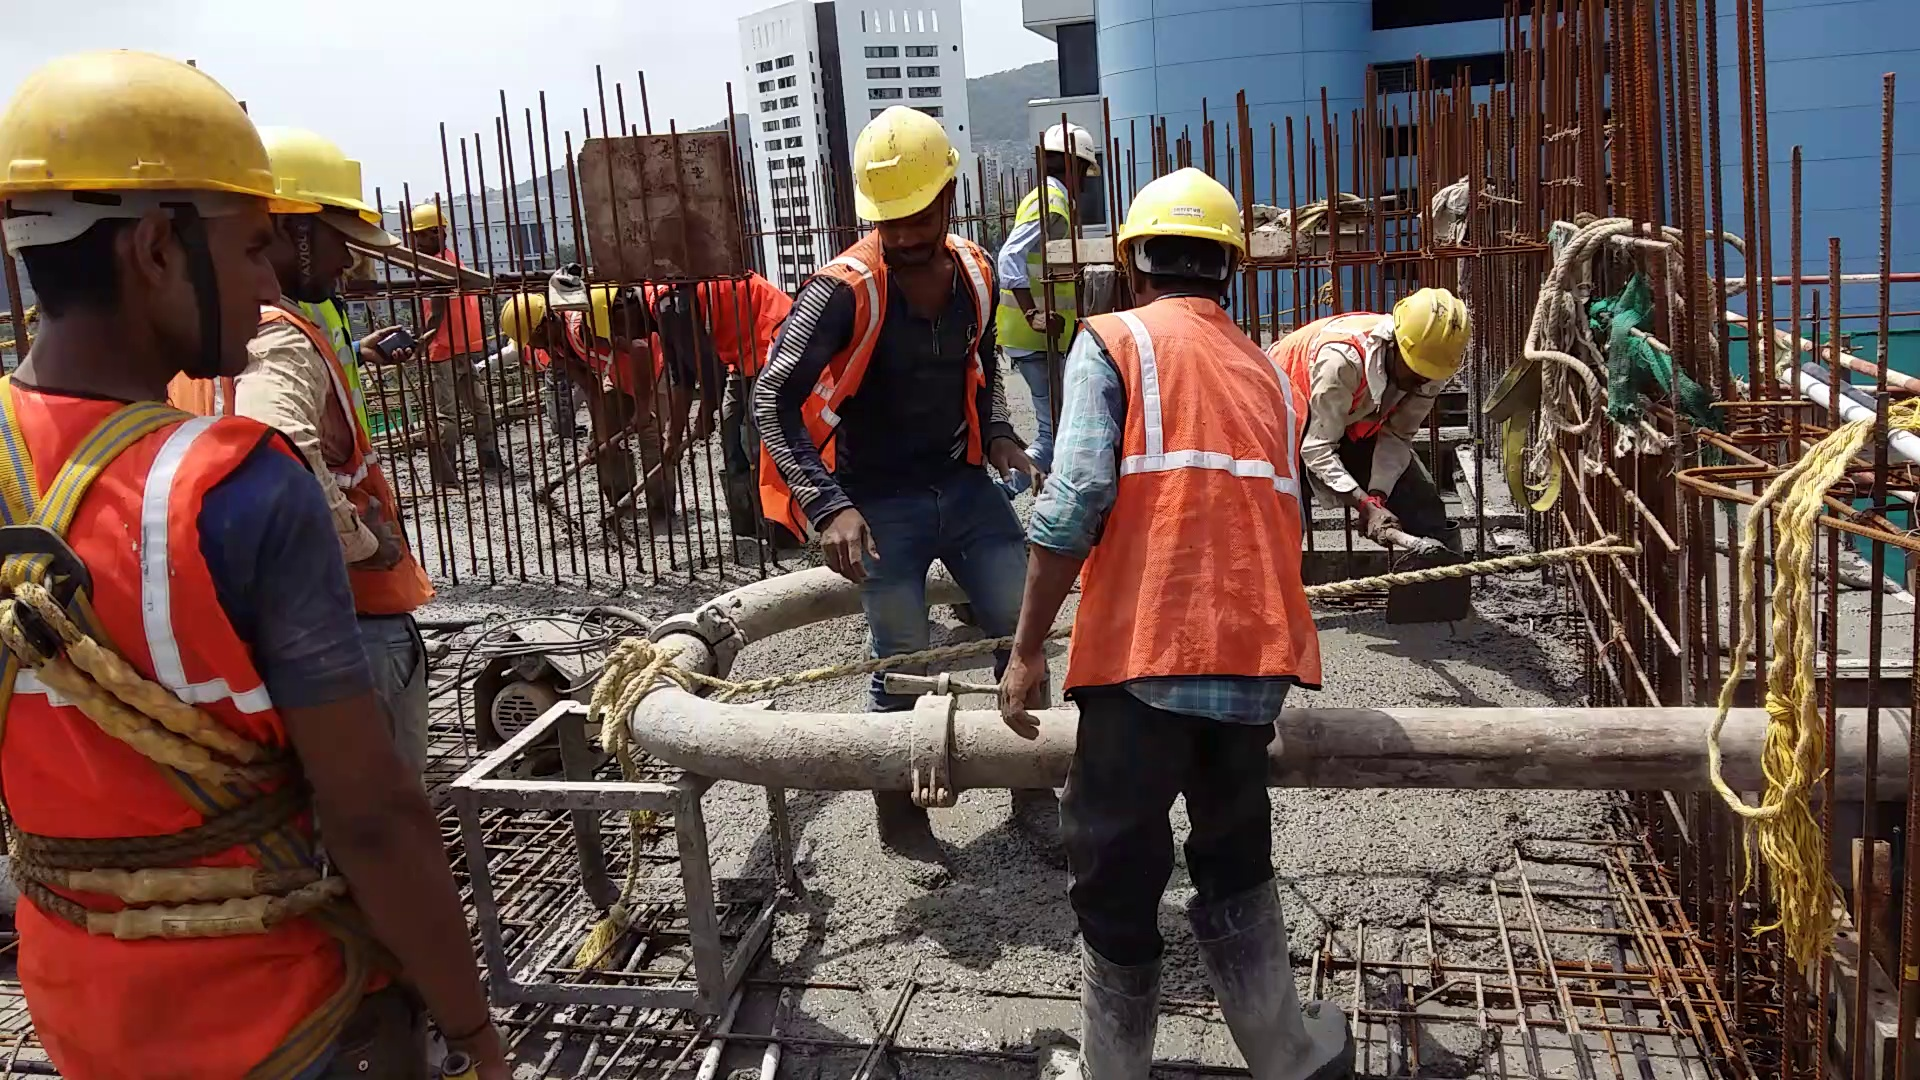SAFE: (1, 69, 284, 1015), (1098, 165, 1295, 688), (819, 95, 1000, 495), (1295, 280, 1465, 440)
